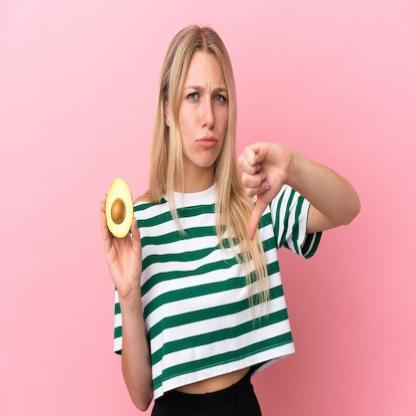thumb_down: (235, 139, 283, 244)
